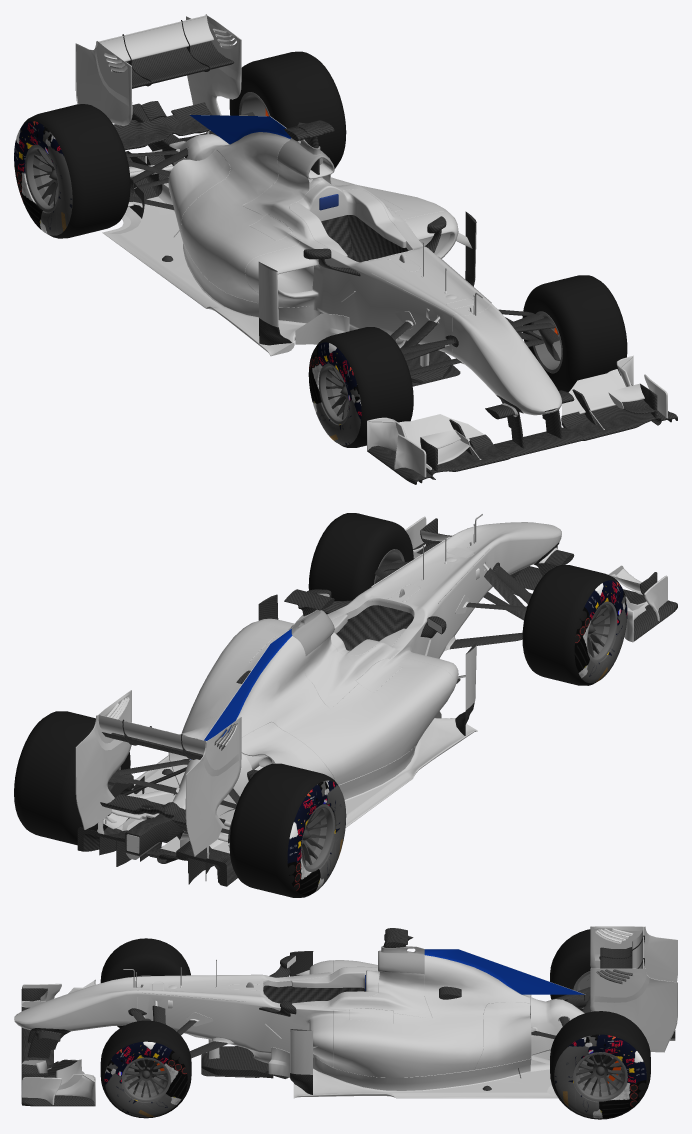
The model's file is SDC F1 SKETCHFAB.fbx.
3 renders of one model, top to bottom at view 1: azimuth 30°, elevation 25°; view 2: azimuth 150°, elevation 25°; view 3: azimuth 270°, elevation 25°, orthographic. The views are drawn at different scales.
Parts seen in each view (by area): view 1: Car, Car.002, Car.001; view 2: Car, Car.002, Car.001; view 3: Car, Car.002, Car.001.
Boxes of the visible parts, box(x1,y1,x2,y2) form: Car: box(75, 14, 677, 484); Car.002: box(14, 51, 346, 238); Car.001: box(308, 275, 627, 447); Car: box(75, 514, 677, 886); Car.002: box(14, 711, 346, 897); Car.001: box(308, 513, 627, 685); Car: box(14, 926, 677, 1106); Car.002: box(550, 929, 650, 1119); Car.001: box(100, 938, 191, 1118).
Size of the model in its own units: 186 by 109 by 485.
